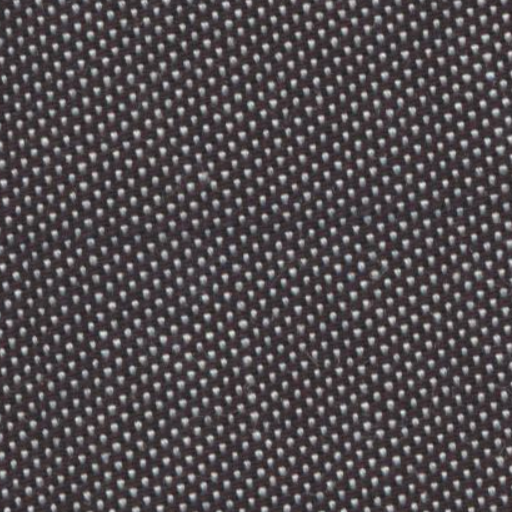TuoSha: (17, 190, 492, 255)
